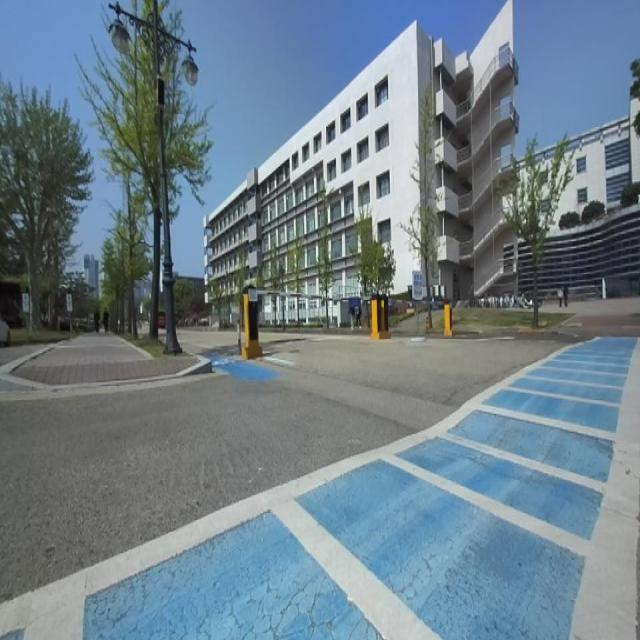sidewalk: (0, 332, 200, 389)
